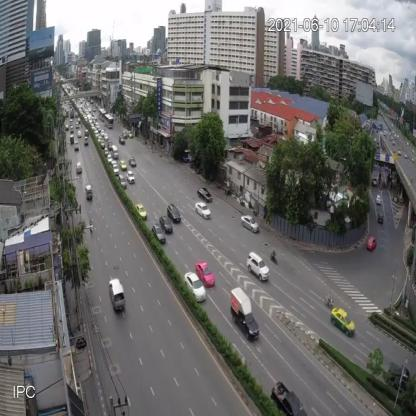car: (270, 381, 310, 415), (329, 303, 356, 338), (246, 250, 270, 284), (184, 270, 206, 304), (109, 277, 126, 315), (196, 262, 216, 288), (240, 212, 260, 235), (167, 202, 182, 226), (196, 186, 214, 205), (194, 202, 212, 221), (159, 214, 174, 236), (152, 223, 166, 245), (136, 202, 148, 220), (365, 236, 377, 254)
motorcycle: (324, 287, 334, 309), (270, 246, 278, 266)
truck: (230, 285, 260, 343)
